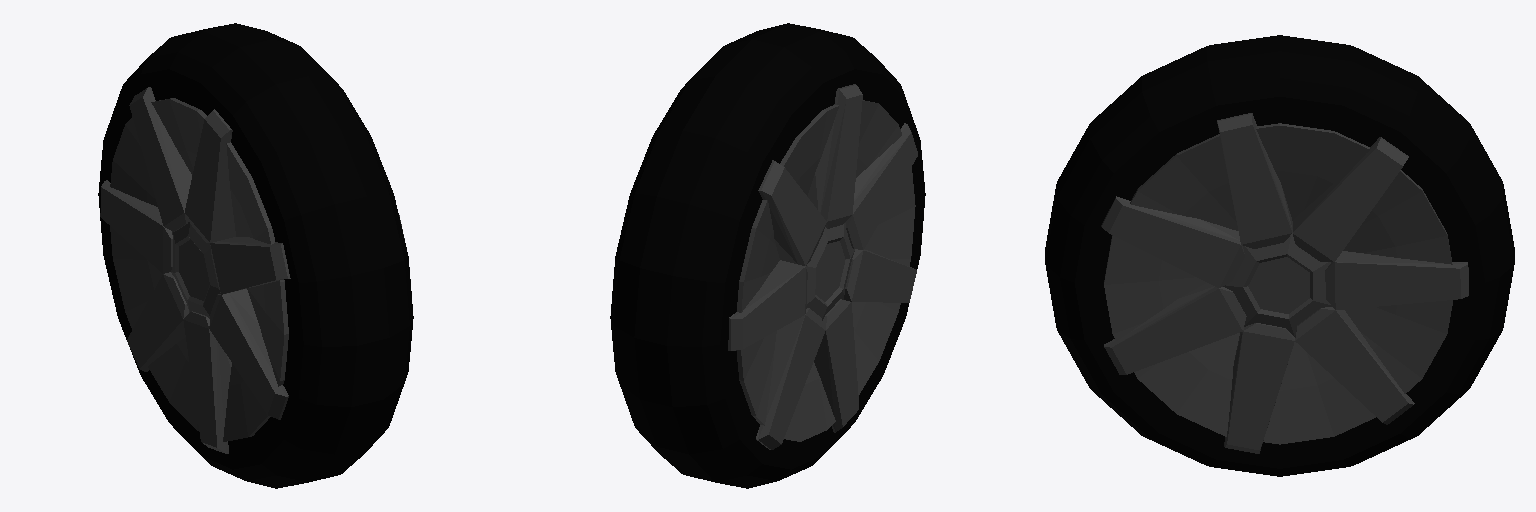
Rendered from cyber_wheel.obj.
The picture shows the model from 3 angles: view 1: azimuth 30°, elevation 25°; view 2: azimuth 150°, elevation 25°; view 3: azimuth 270°, elevation 25°; orthographic projection.
Visible parts, largest first — view 1: Twheel_Tesla_Cybertruck.002; view 2: Twheel_Tesla_Cybertruck.002; view 3: Twheel_Tesla_Cybertruck.002.
Part boxes in pixels (bbox=[...]): Twheel_Tesla_Cybertruck.002: bbox=[98, 23, 413, 488]; Twheel_Tesla_Cybertruck.002: bbox=[610, 23, 925, 488]; Twheel_Tesla_Cybertruck.002: bbox=[1045, 35, 1514, 476].
Size of the model in its own units: 0.7879 by 2.46 by 2.46.